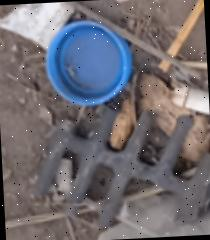general: (43, 15, 135, 107)
